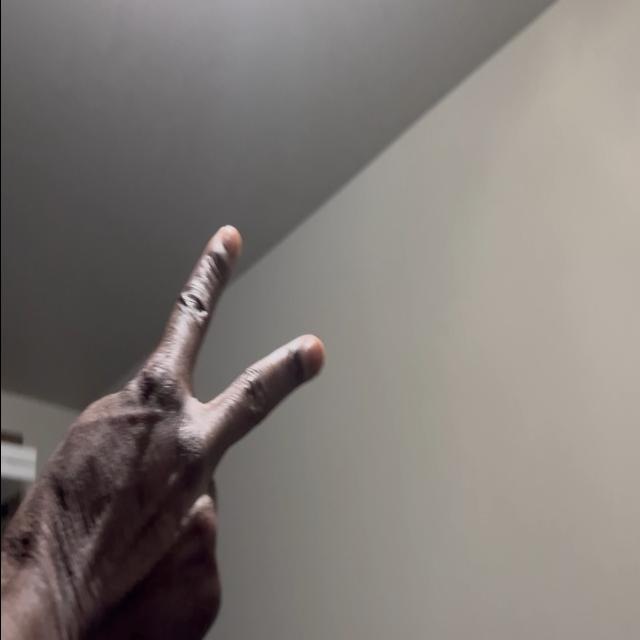Scissors: (0, 227, 324, 640)
